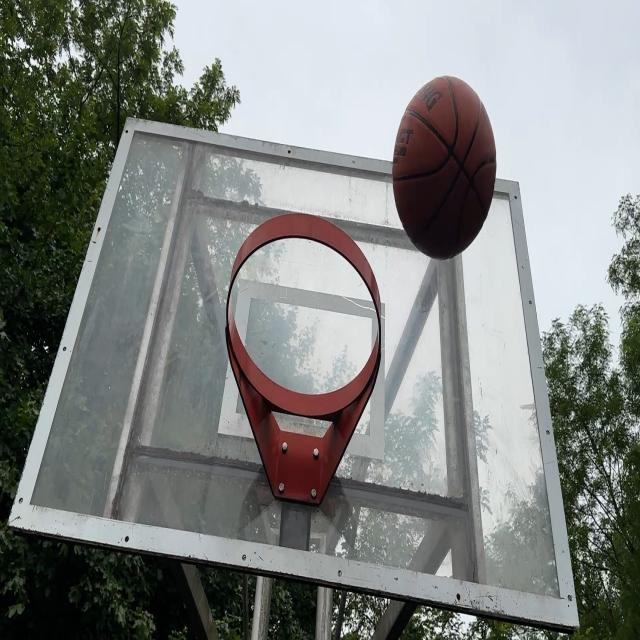Basketball: (389, 77, 495, 261)
